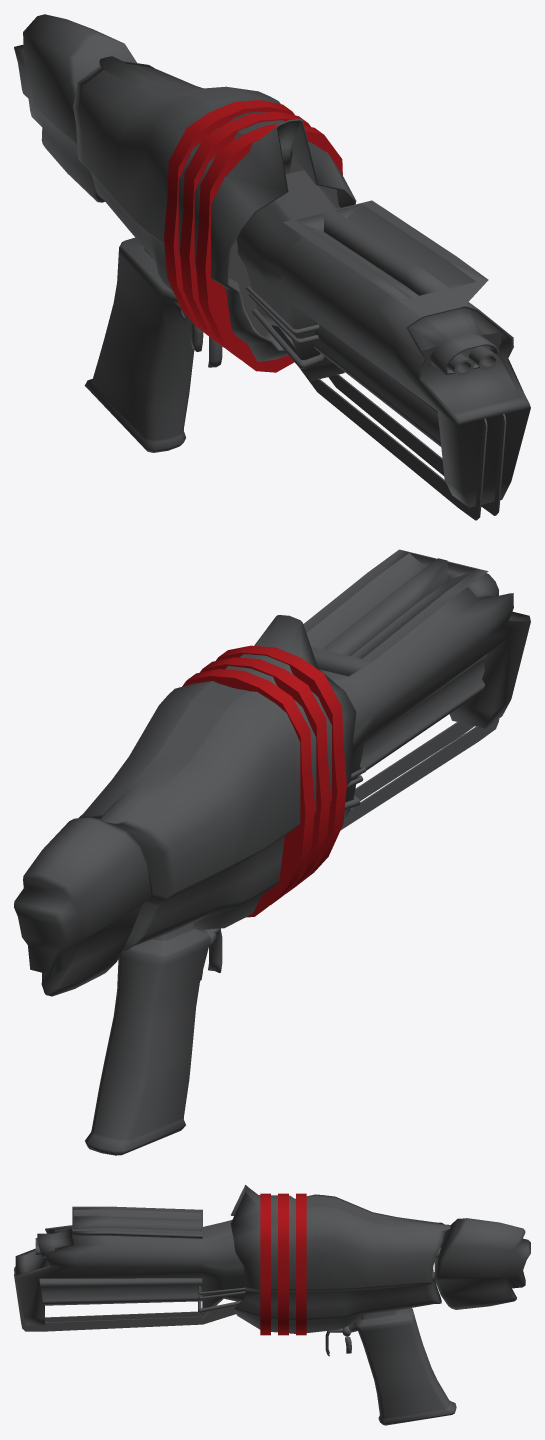
Rendered from Rocket_Launcher.fbx.
3 views of the same model, one above another, from view 1: azimuth 30°, elevation 25°; view 2: azimuth 150°, elevation 25°; view 3: azimuth 270°, elevation 25° (orthographic). The views are drawn at different scales.
Visible parts, largest first — view 1: pCylinder5; view 2: pCylinder5; view 3: pCylinder5.
Part boxes in pixels (box(x1,y1,x2,y2)): pCylinder5: box(14, 14, 530, 520); pCylinder5: box(14, 549, 530, 1155); pCylinder5: box(14, 1185, 530, 1425).
Size of the model in its own units: 58.54 by 166 by 330.
